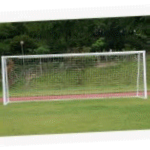goals: (2, 49, 150, 106)
